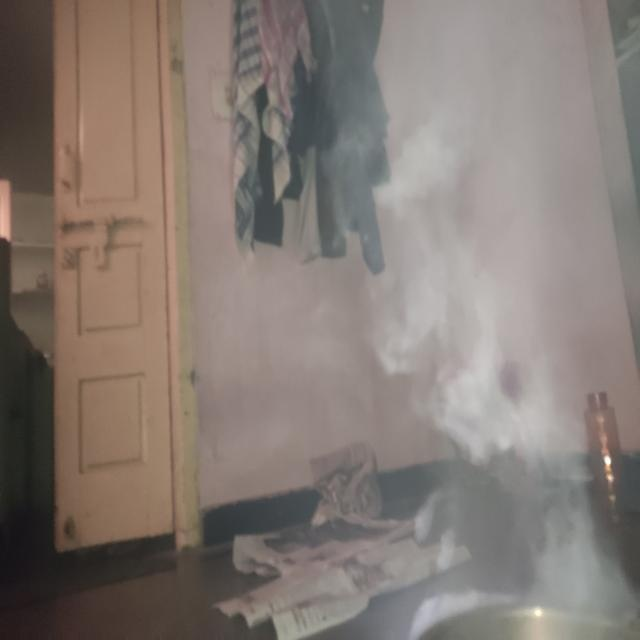smoke: (373, 207, 569, 547)
